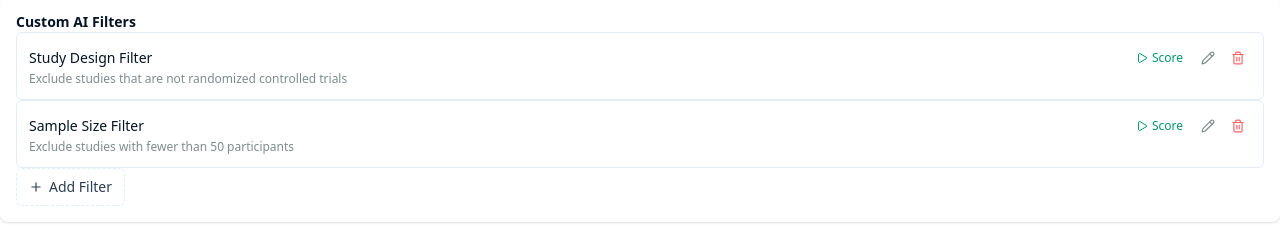
Scenario: CustomAiFilterEditor › shows delete confirmation
Click the button with test id "delete-filter-f-1".
click(1238, 58)  # box [1225, 45, 1251, 71]
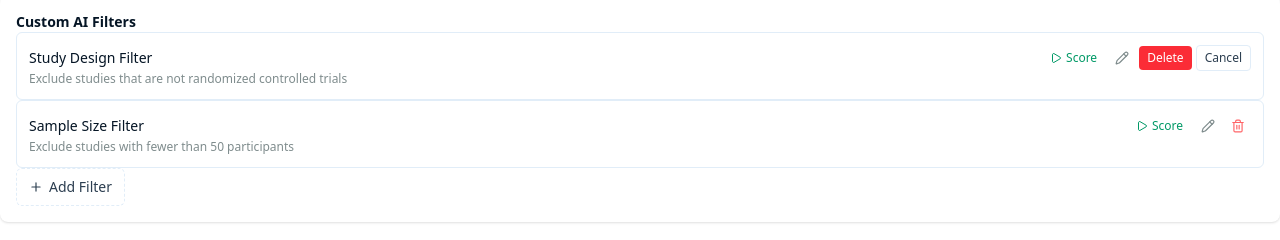
Expected: the button with test id "confirm-delete-f-1" is shown, [1139, 46, 1192, 70]
Expected: the button with test id "cancel-delete-f-1" is shown, [1196, 45, 1251, 71]
